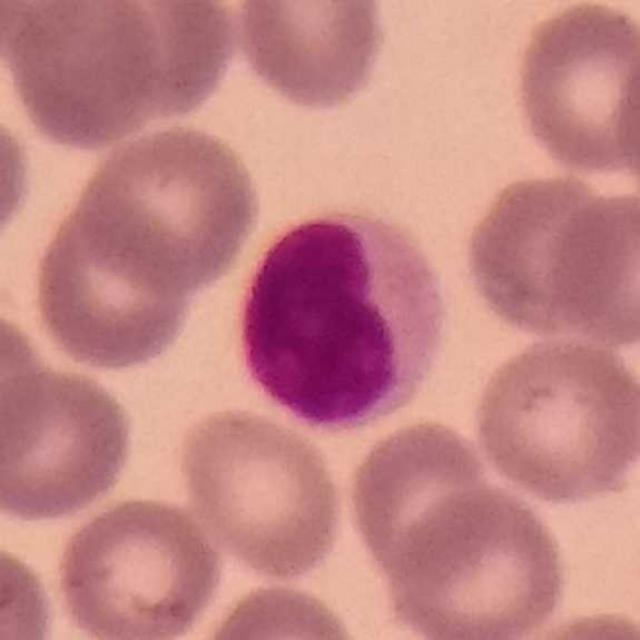Lymphocyte: (227, 219, 427, 435)
RBC: (71, 118, 265, 294), (173, 400, 350, 586), (27, 193, 198, 375), (459, 167, 633, 343), (381, 481, 573, 640), (468, 331, 640, 507), (340, 413, 500, 588), (44, 0, 247, 130), (50, 492, 226, 640), (2, 0, 166, 152), (506, 0, 639, 180), (0, 360, 140, 526), (227, 0, 393, 115), (542, 186, 640, 348), (191, 577, 369, 640), (0, 304, 55, 478), (0, 0, 117, 69), (0, 537, 61, 640), (0, 100, 37, 261), (610, 27, 640, 209), (505, 604, 640, 640)
